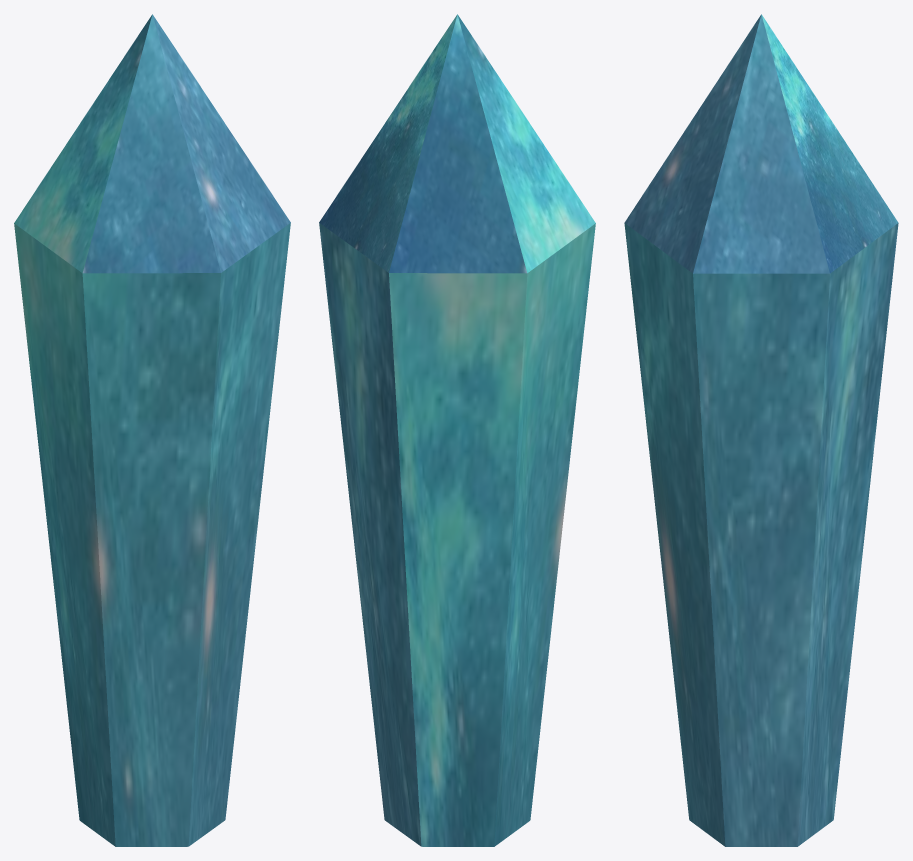
Rendered from BALA.fbx.
The picture shows the model from 3 angles, left to right: view 1: azimuth 30°, elevation 25°; view 2: azimuth 150°, elevation 25°; view 3: azimuth 270°, elevation 25°; orthographic projection.
Visible parts, largest first — view 1: Cylinder; view 2: Cylinder; view 3: Cylinder.
Boxes of the visible parts, x1,y1,x2,y2 form: Cylinder: [14, 14, 290, 846]; Cylinder: [319, 14, 595, 846]; Cylinder: [624, 14, 898, 846].
Bounding box in the file's own units: 30.5 × 113 × 34.77.
1 material, 1 textured.
